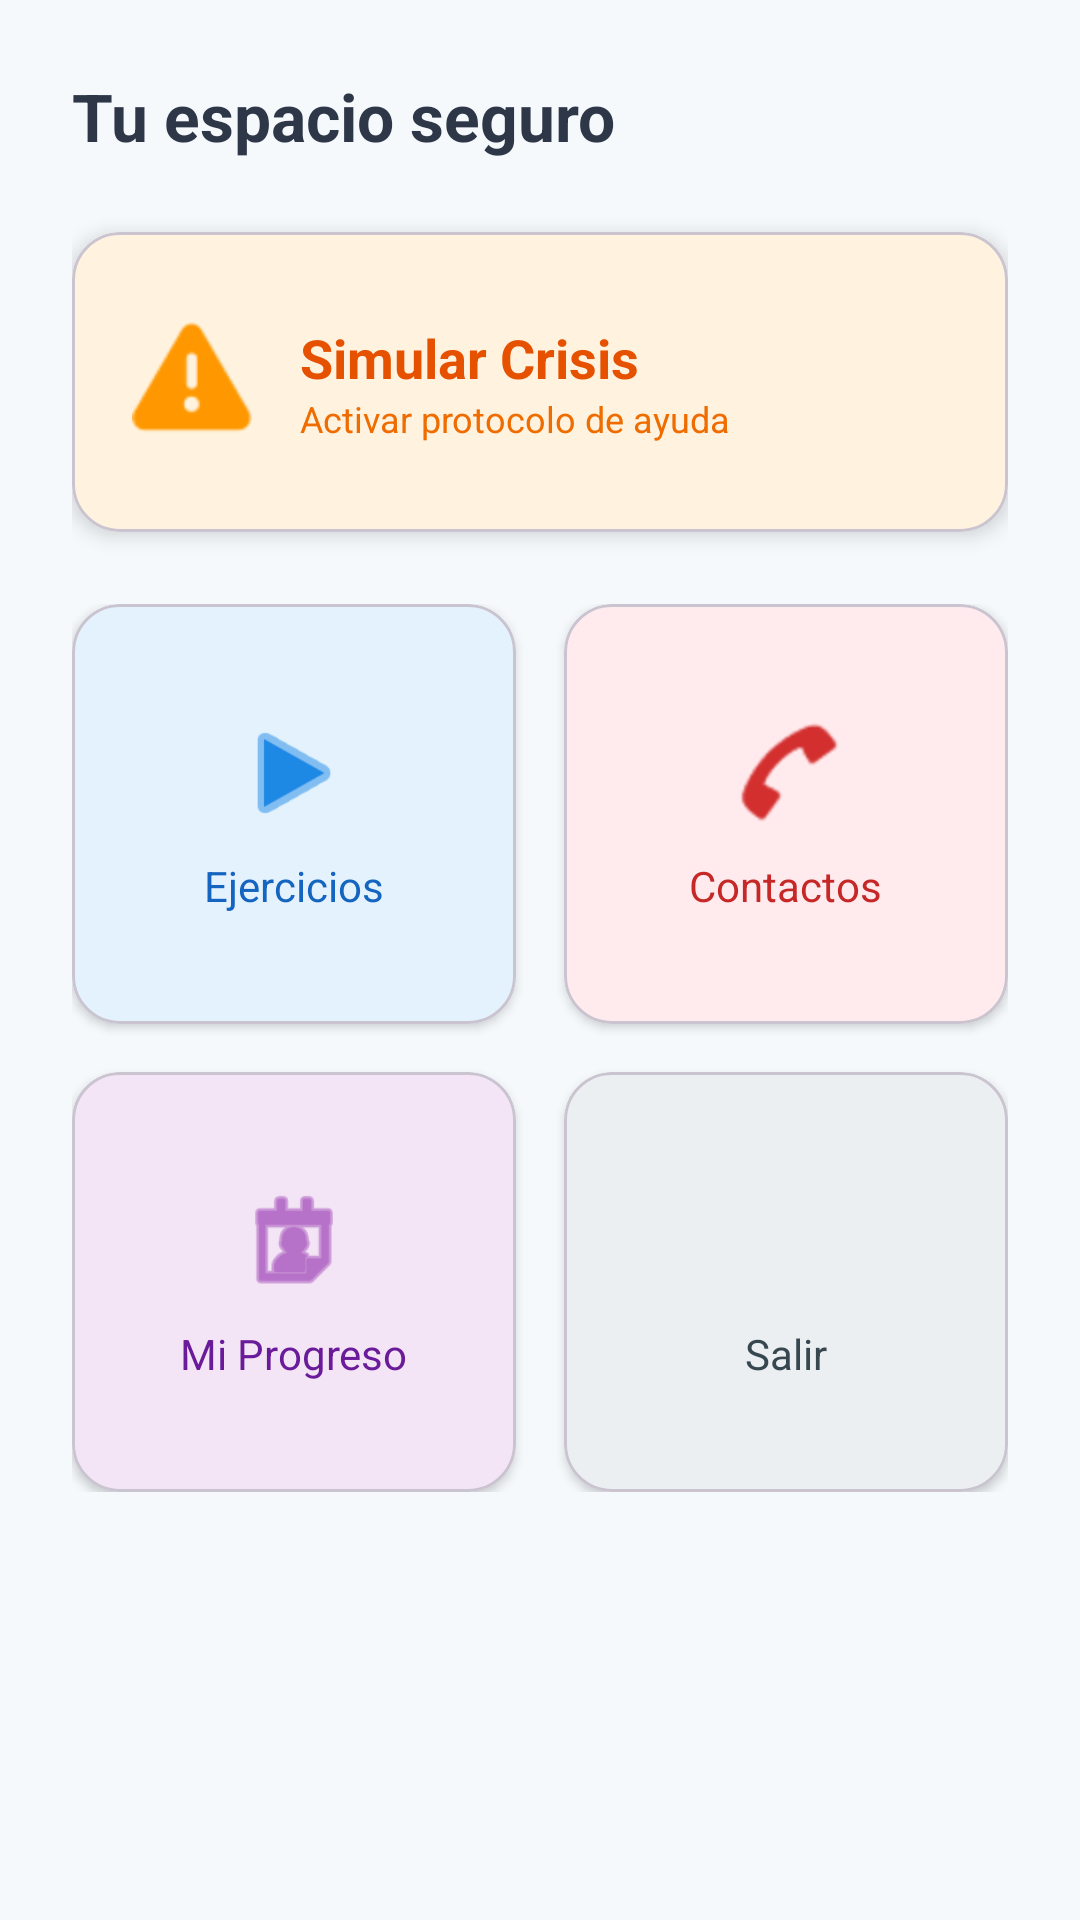

Screen size 1080*1920. Icon name, then its center in pixels as point (x, y):
alert: point (192, 377)
calendar: point (294, 1240)
play: point (294, 773)
sym action call: point (789, 772)
